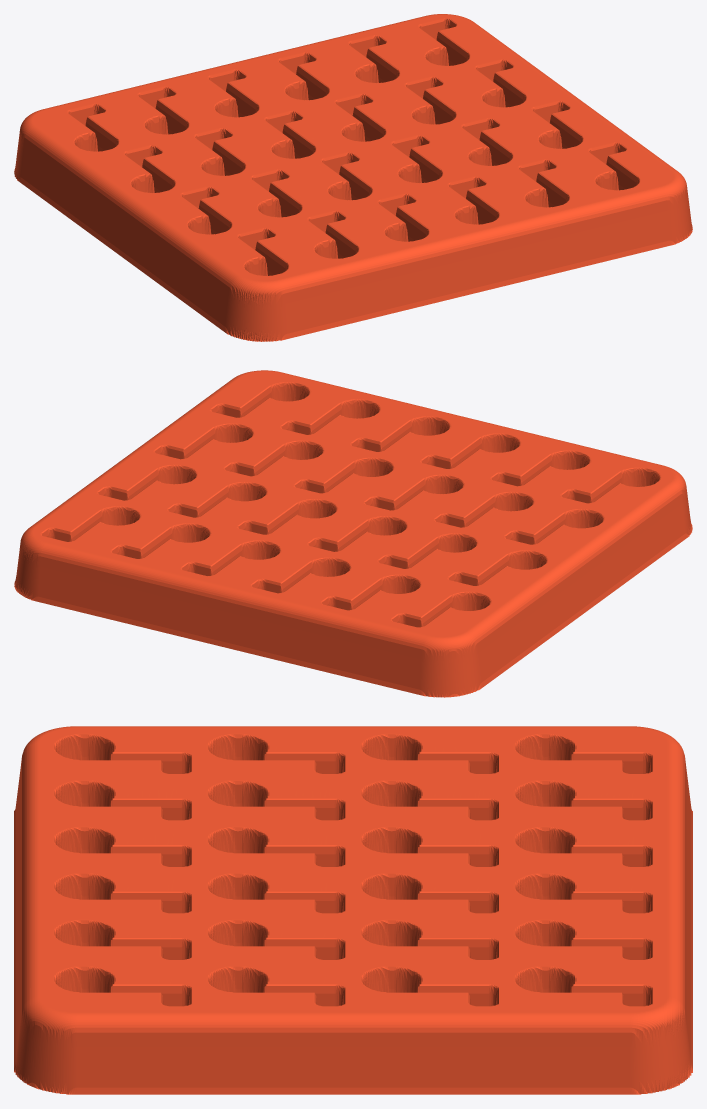
File: mold.glb
The picture shows the model from 3 angles, top to bottom: view 1: azimuth 30°, elevation 25°; view 2: azimuth 150°, elevation 25°; view 3: azimuth 270°, elevation 25°; orthographic projection. The views are drawn at different scales.
Visible parts, largest first — view 1: geometry_0; view 2: geometry_0; view 3: geometry_0.
Part boxes in pixels (box(x1,y1,x2,y2)): geometry_0: box(14, 14, 692, 341); geometry_0: box(14, 370, 692, 697); geometry_0: box(14, 726, 692, 1094).
Bounding box in the file's own units: 0.1045 × 0.0114 × 0.098.
